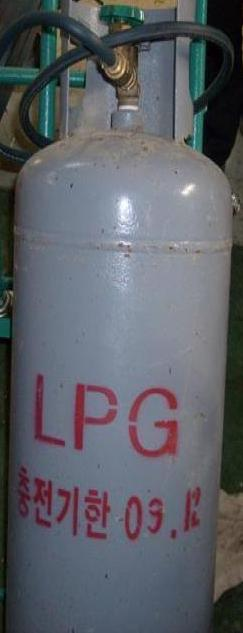cylinder: (1, 1, 243, 633)
